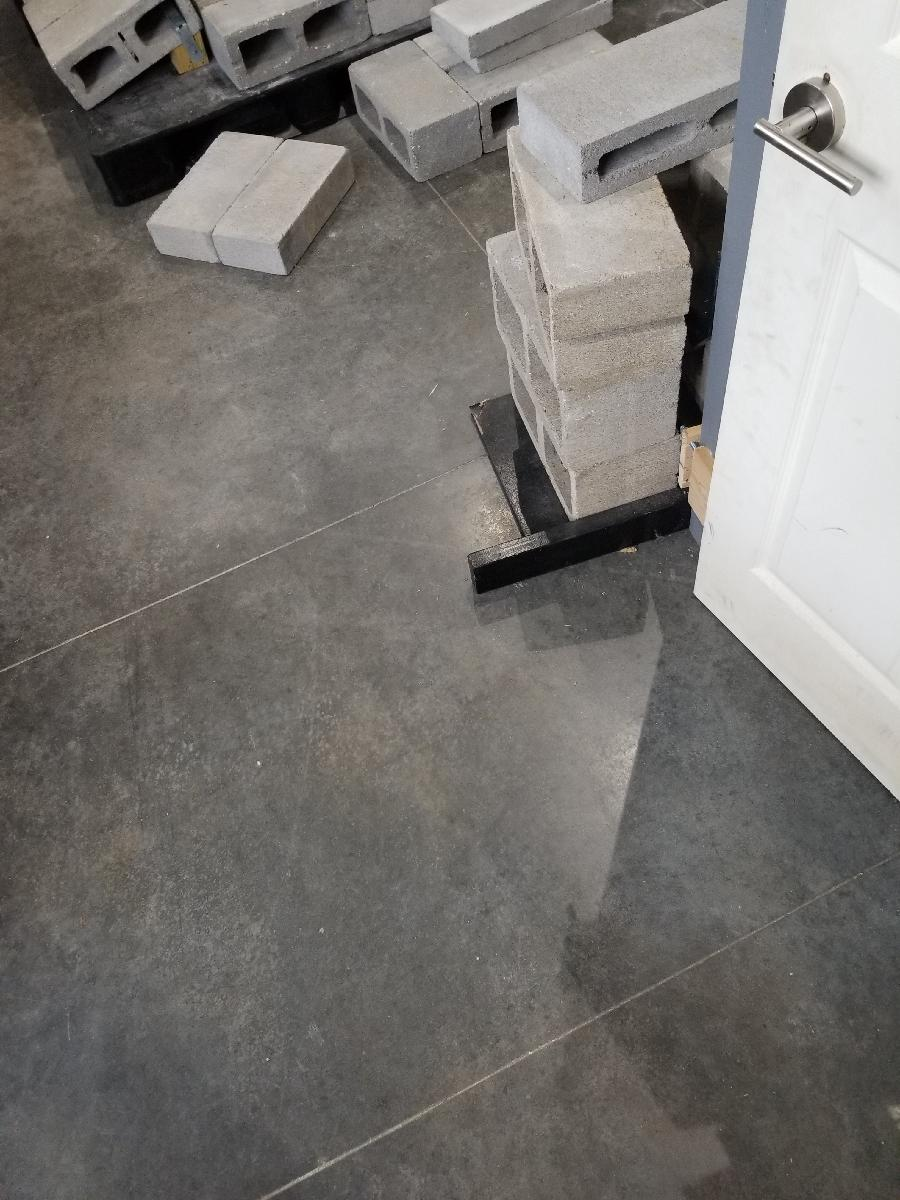doorHandle: (743, 72, 871, 202)
